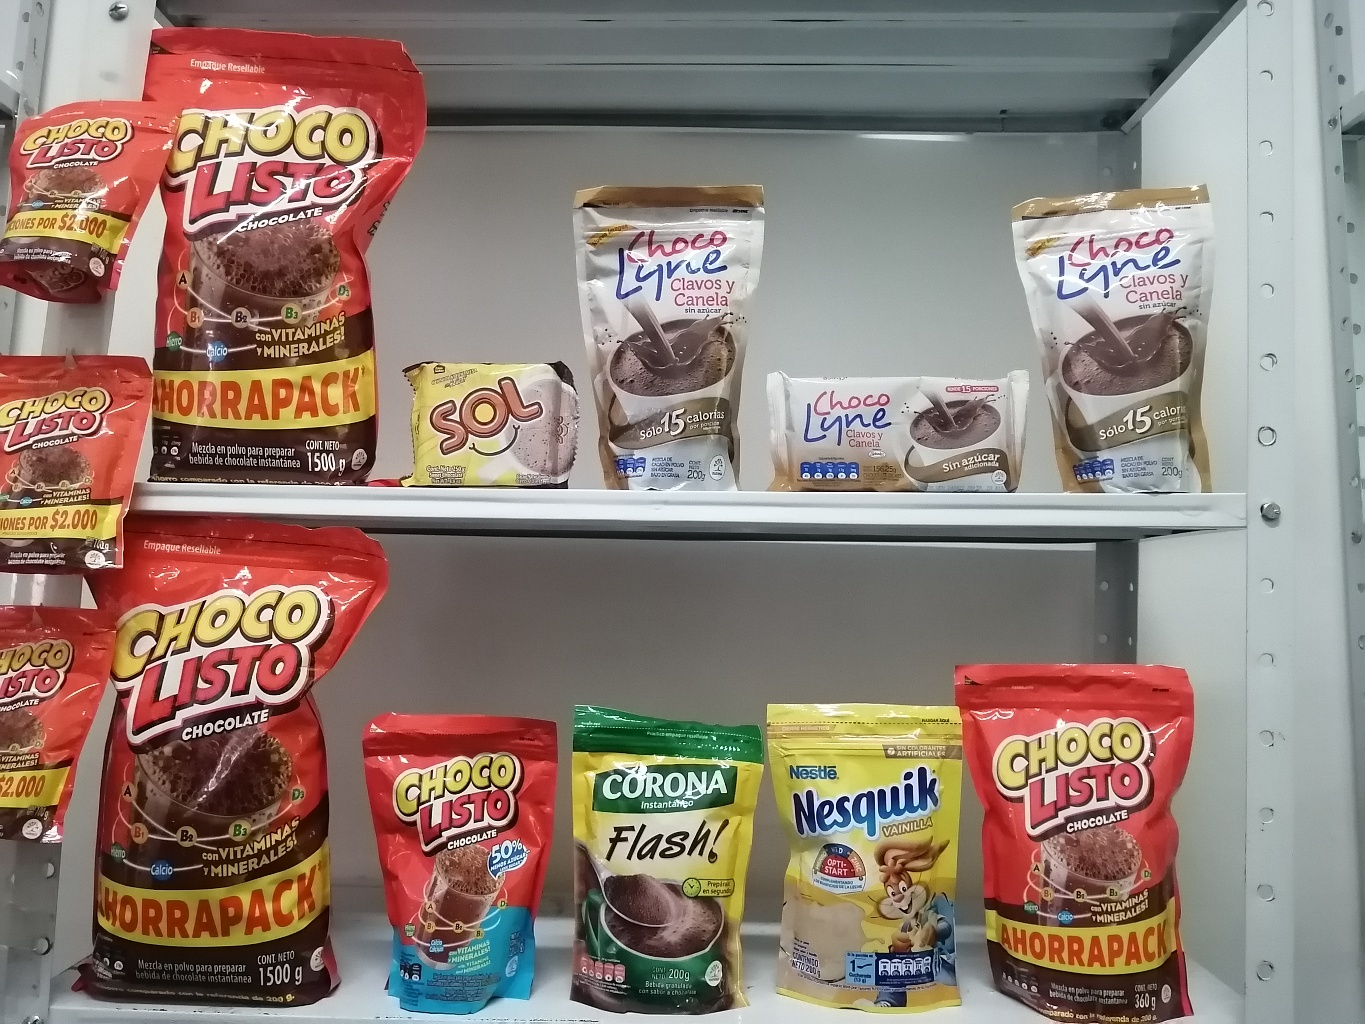COL0170103DYP1,500: (91, 518, 390, 1018)
COL0170103DYP36000: (947, 642, 1215, 1024)
COL0170104DYP20000: (356, 692, 561, 1012)
COL0170306DYP20000: (760, 692, 965, 1012)
